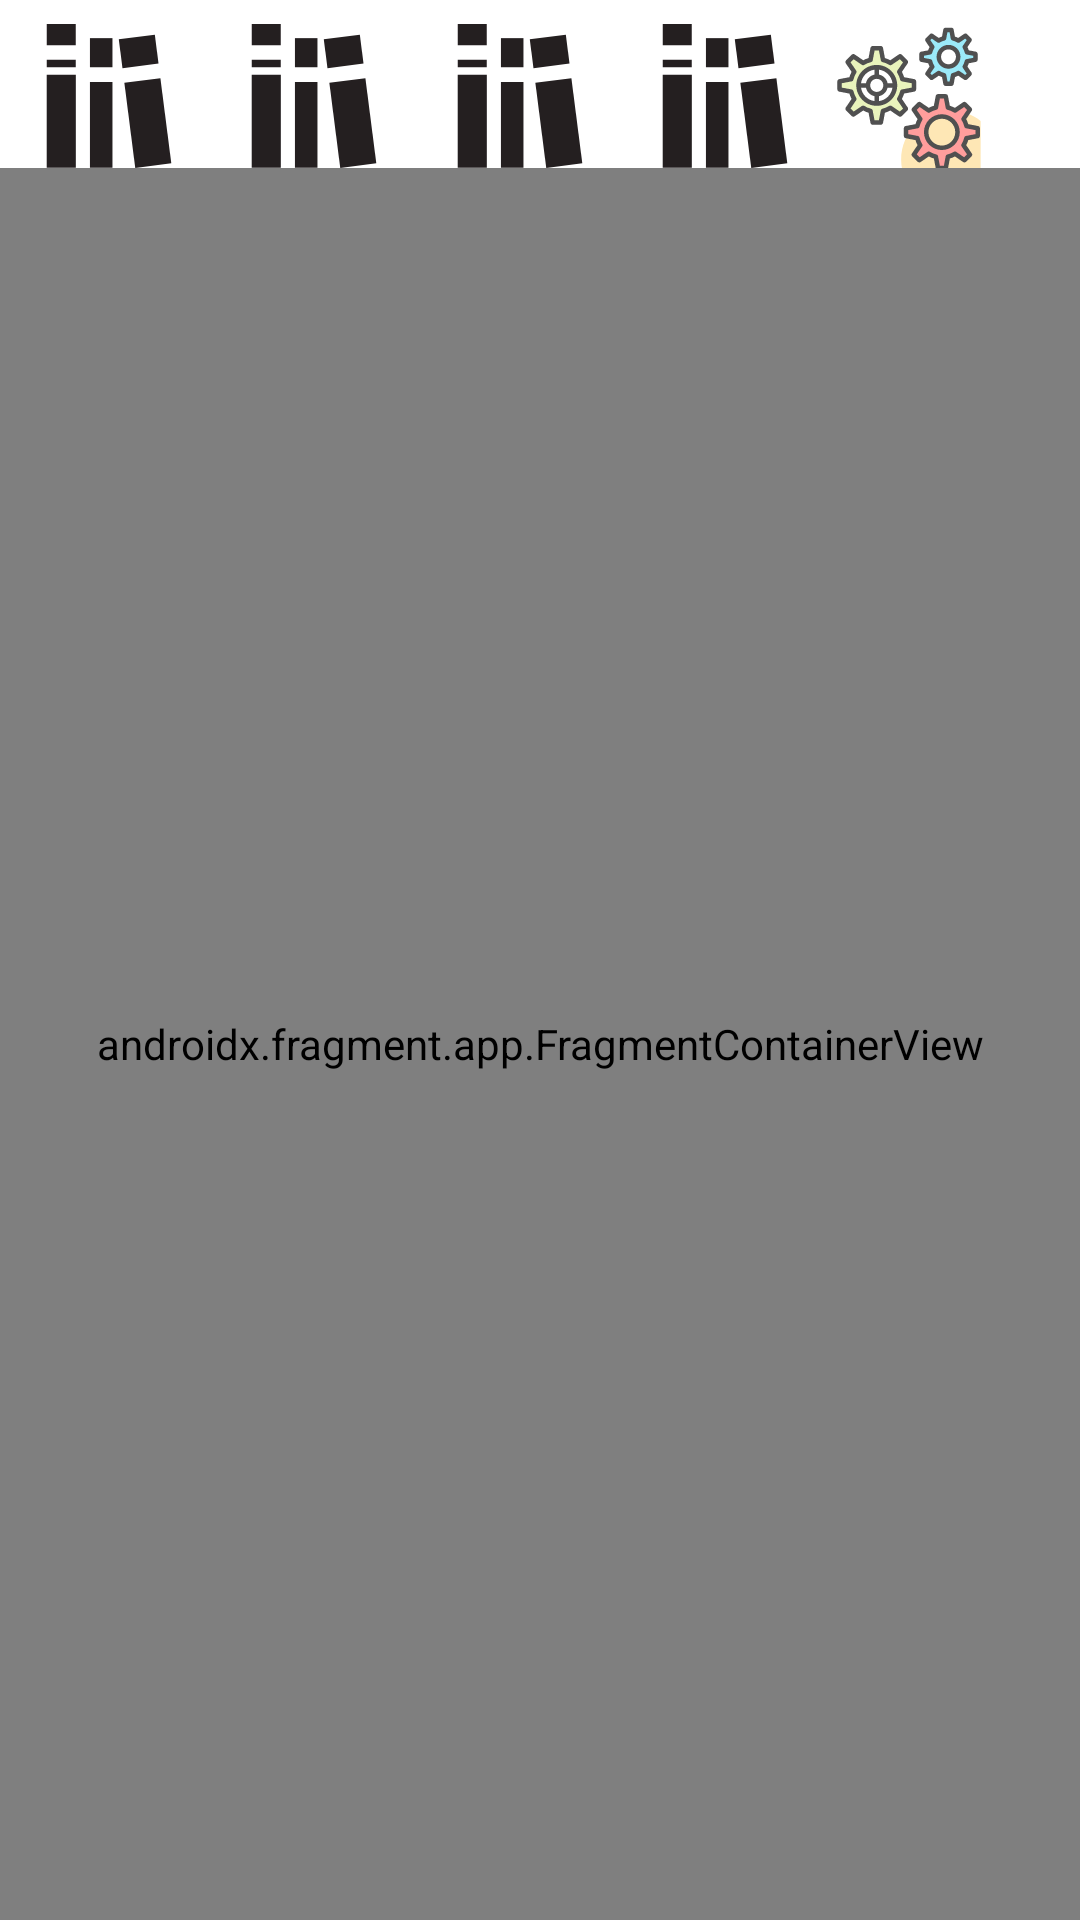

Icons on this 1080w x 1920h Android screen, each with its box as {"left": x1, "top": y1, "right": x2, "bottom": y2}:
fila libri: {"left": 46, "top": 24, "right": 172, "bottom": 168}, {"left": 251, "top": 24, "right": 377, "bottom": 168}, {"left": 457, "top": 24, "right": 583, "bottom": 168}, {"left": 662, "top": 24, "right": 788, "bottom": 168}
